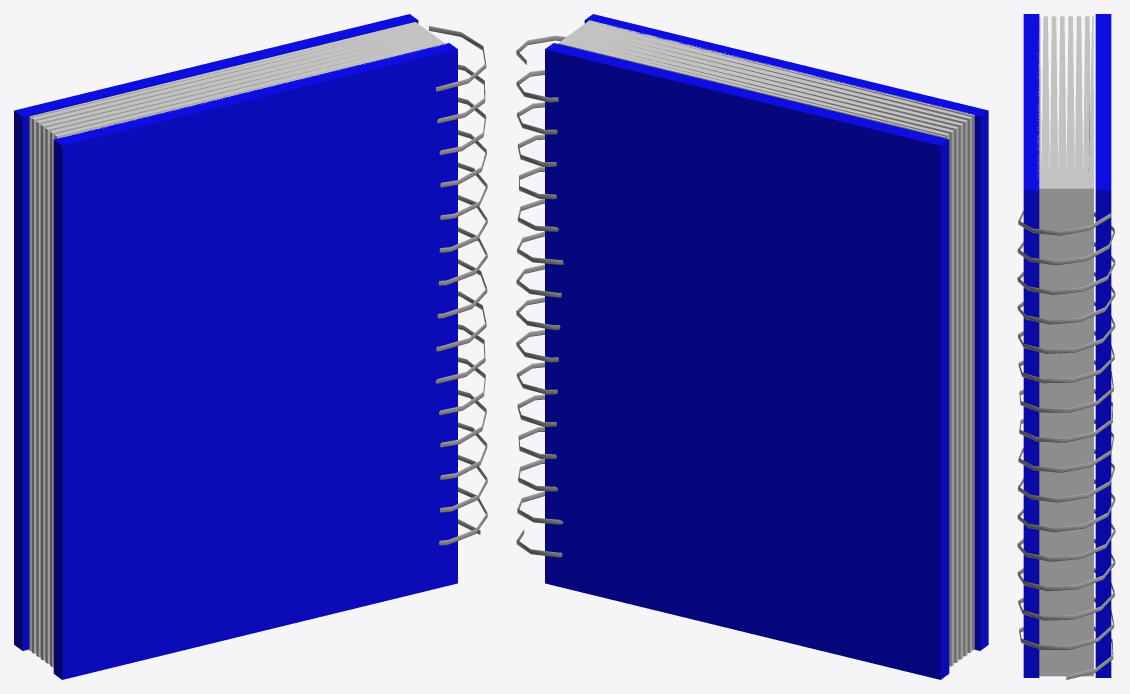
The model's file is notebook02_blue.fbx.
3 renders of one model, left to right at view 1: azimuth 30°, elevation 25°; view 2: azimuth 150°, elevation 25°; view 3: azimuth 270°, elevation 25°, orthographic. The views are drawn at different scales.
Parts seen in each view (by area): view 1: notebook02_blue; view 2: notebook02_blue; view 3: notebook02_blue.
Boxes of the visible parts, x1=… form: notebook02_blue: x1=14, y1=14, x2=487, y2=679; notebook02_blue: x1=516, y1=14, x2=988, y2=679; notebook02_blue: x1=1017, y1=14, x2=1115, y2=679.
Size of the model in its own units: 1.17 by 1.35 by 0.2466.
